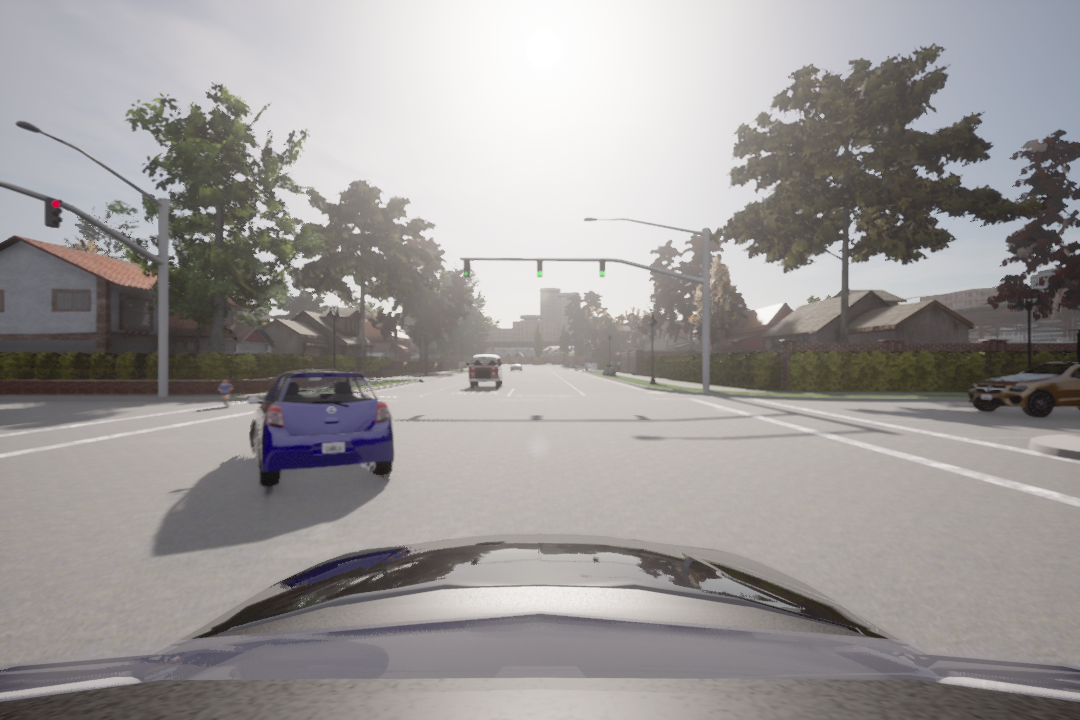TrafficLight: (41, 196, 64, 231), (461, 258, 471, 279), (535, 257, 544, 278), (599, 258, 607, 280)
